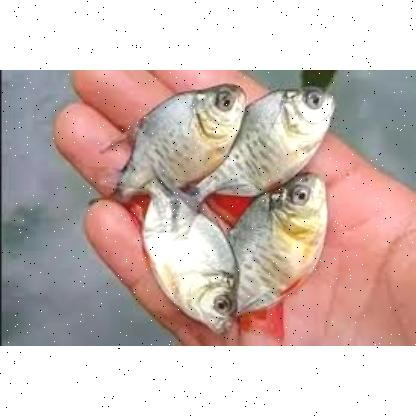ikan-pacu: (134, 191, 236, 333), (234, 176, 336, 314), (114, 80, 246, 184), (226, 79, 336, 183)
